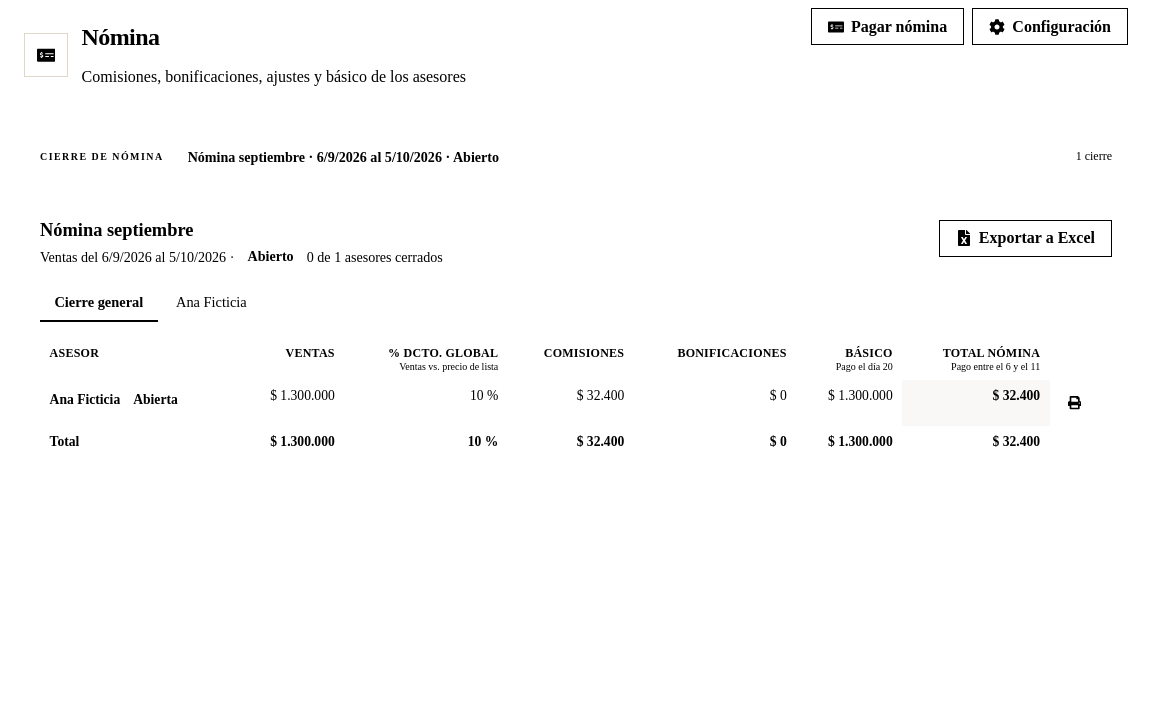
Test case: Nómina › muestra el cierre general y el detalle del asesor en su pestaña, sin ventanas encima
The width and height of the screenshot is (1152, 720).
Expected: the heading "Nómina septiembre" is shown, [40,220,193,240]
Expected: the text "Pago entre el 6 y el 11" is shown, [951,361,1040,372]
Click the 1st button "Ana Ficticia": (211, 304) [162,285,261,322]
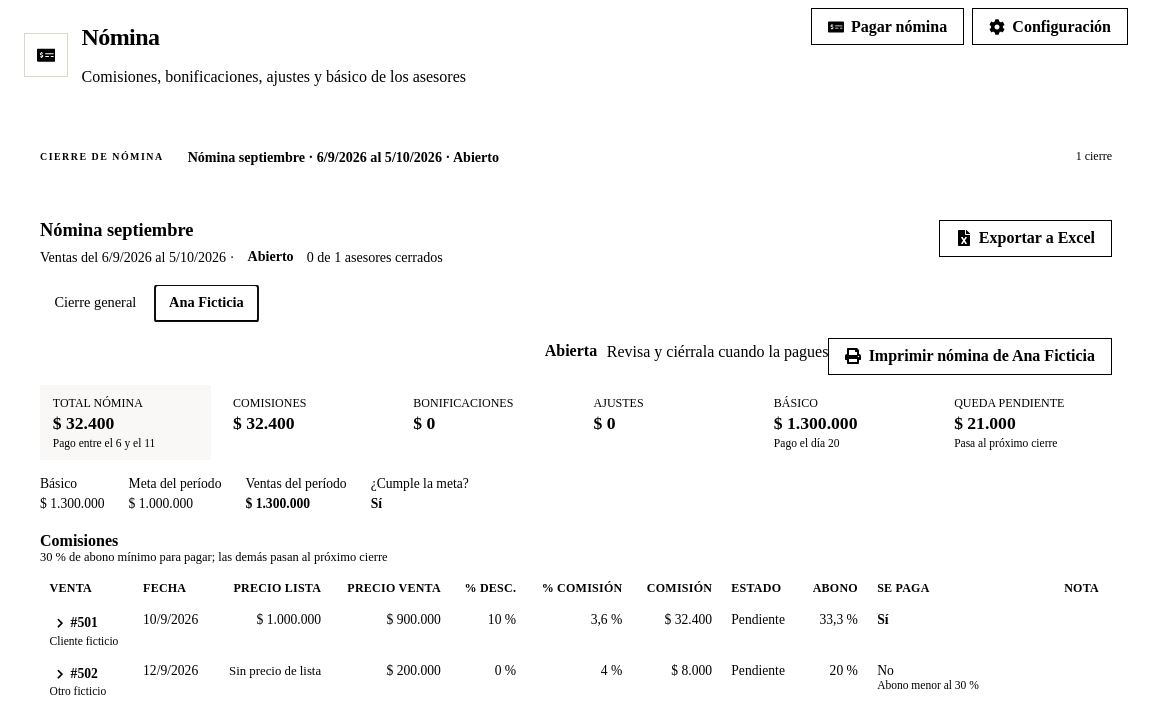
Expected: the button "#501" is shown, [50,612,106,635]
Expected: the text "Abono menor al 30 %" is shown, [877,679,979,691]
Expected: the text "Sin precio de lista" is shown, [229,664,321,678]
